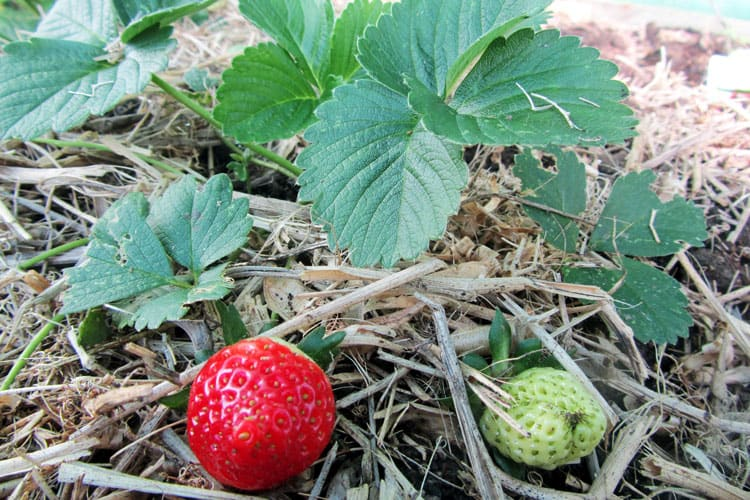ripe_strawberry: (186, 332, 339, 493)
unripe_strawberry: (466, 352, 611, 470)
